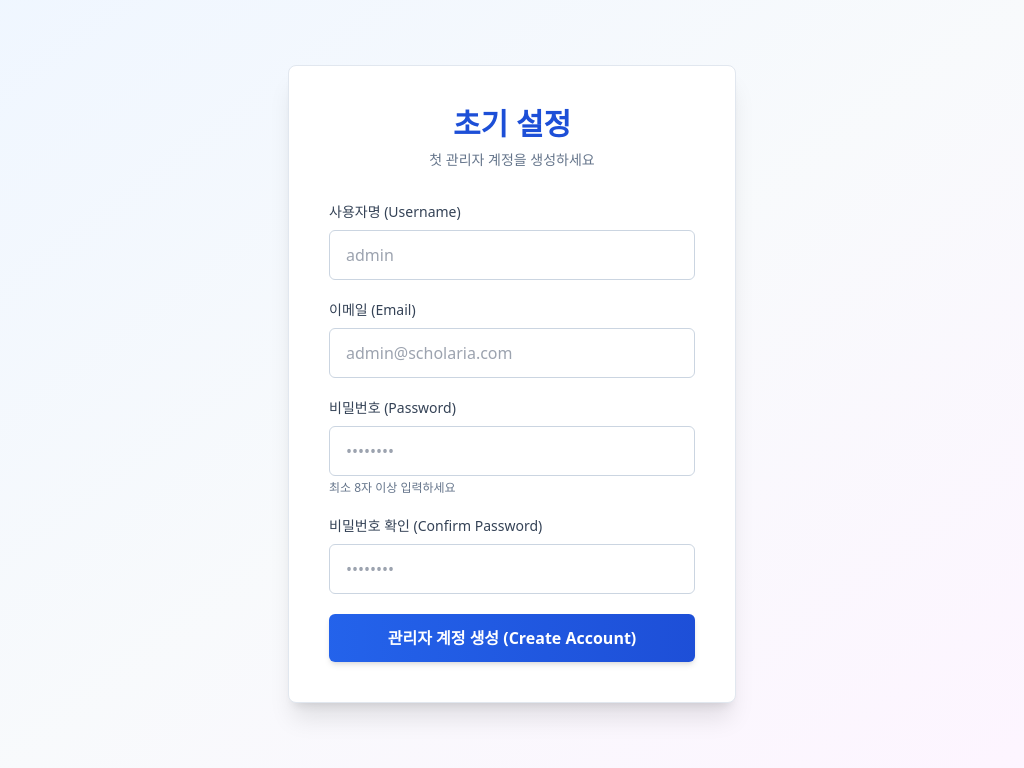
SetupPage › 계정 생성 실패 - 에러 메시지 표시
Type "testuser" into the field labelled "Username". click: (512, 255)
box: [329,230,695,280]
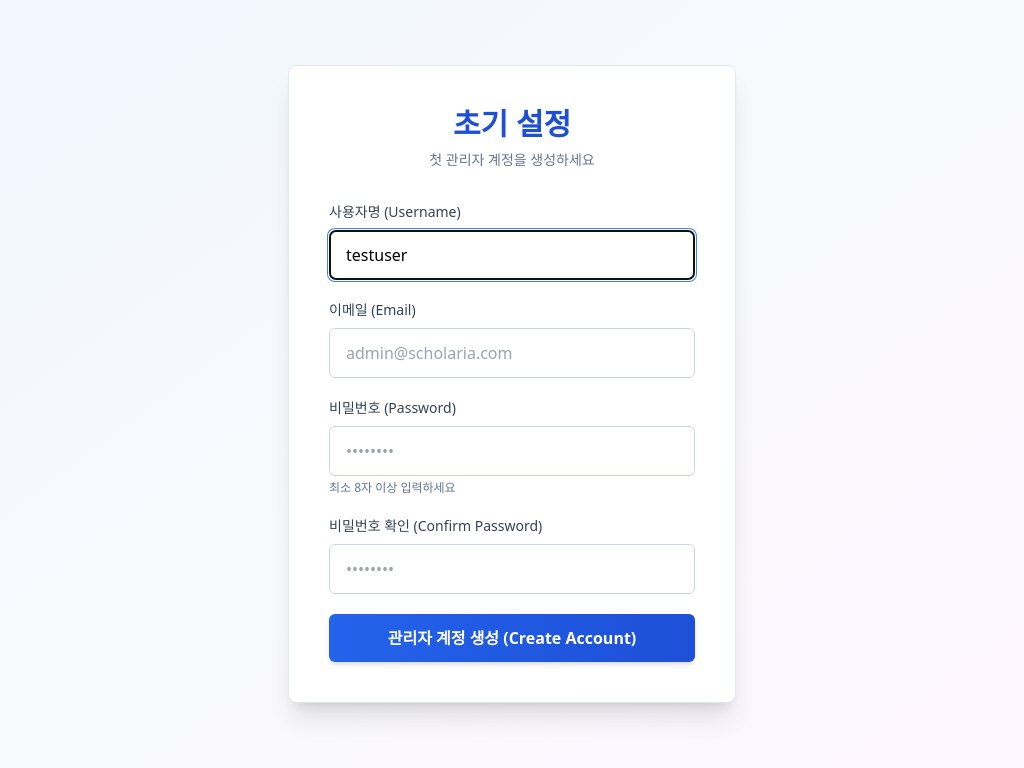
Type "existing@test.com" into the field labelled "Email". click: (512, 353)
box: [329,328,695,378]
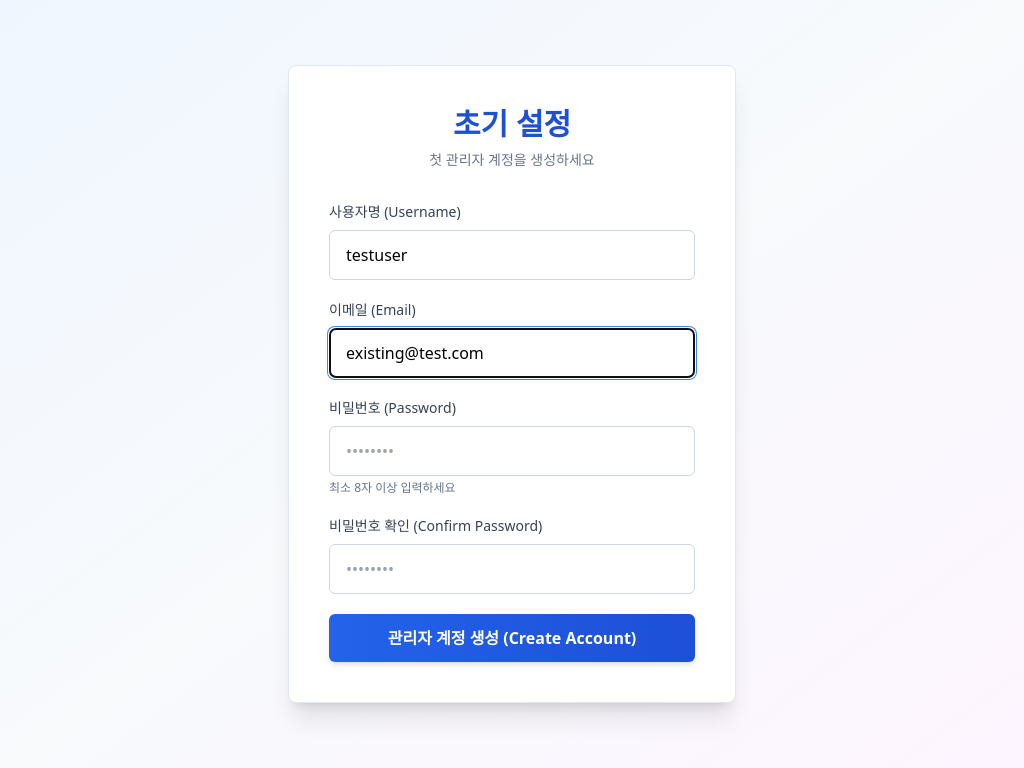
Type "password123" into the password field labelled "Password". click: (512, 451)
box: [329,426,695,476]
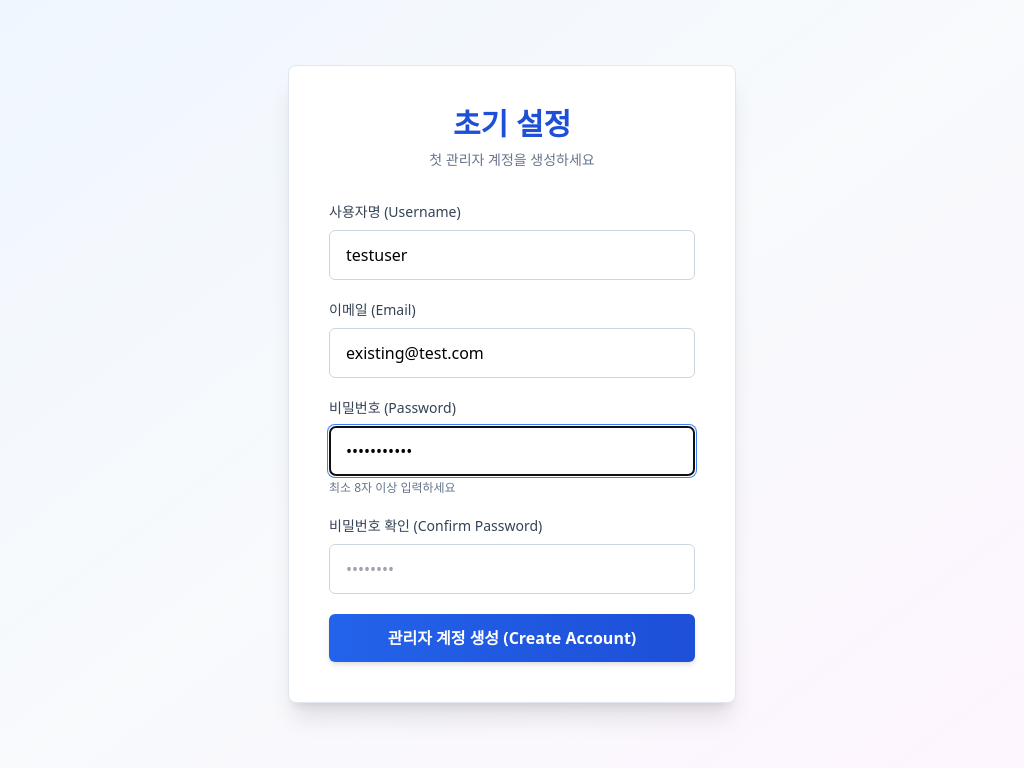
Type "password123" into the password field labelled "Confirm Password". click: (512, 569)
box: [329,544,695,594]
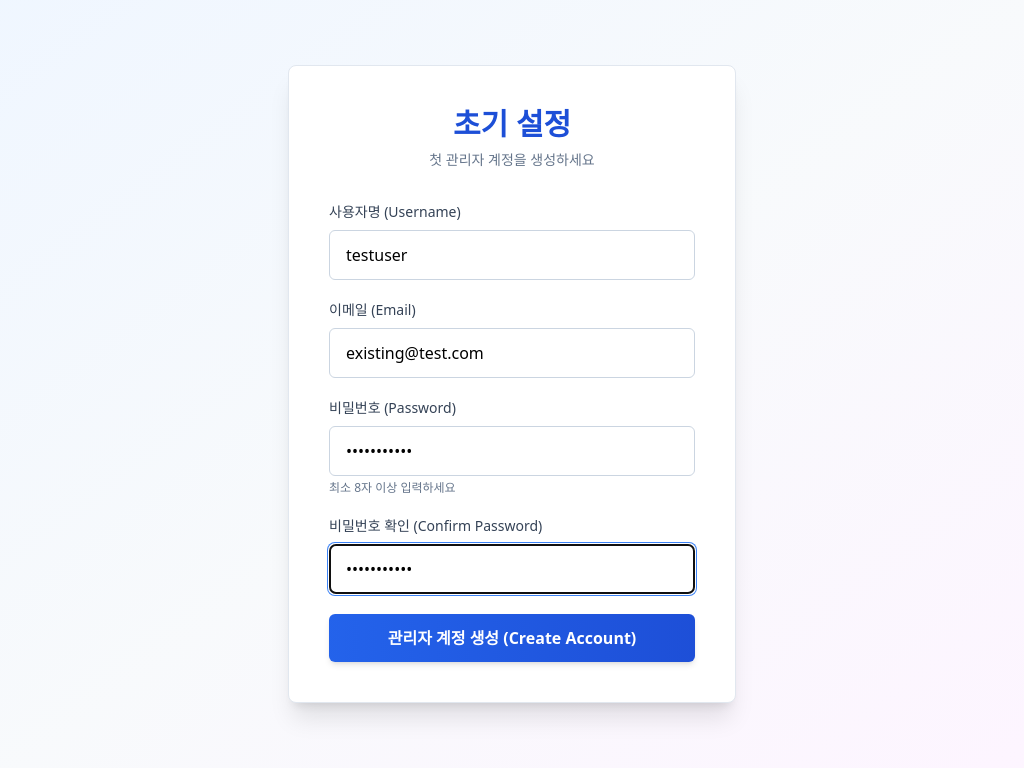
Click the button "관리자 계정 생성 (Create Account)". click: (512, 638)
box: [329,614,695,662]
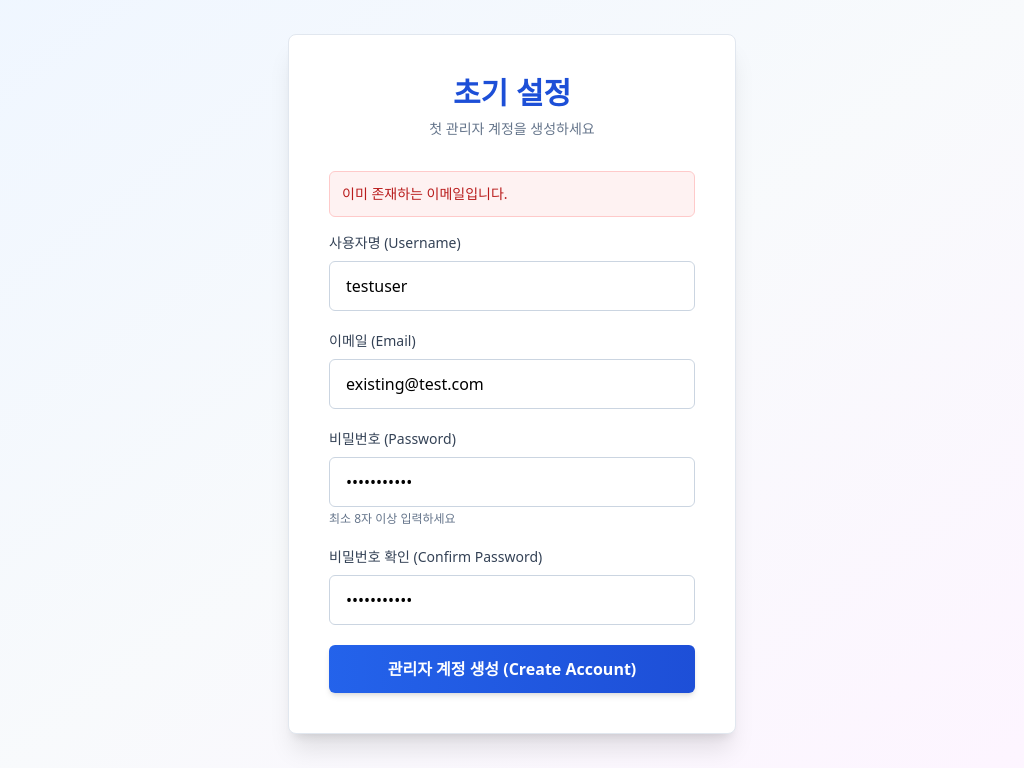
Result: the text "이미 존재하는 이메일입니다." is shown at [329,171,695,217]
